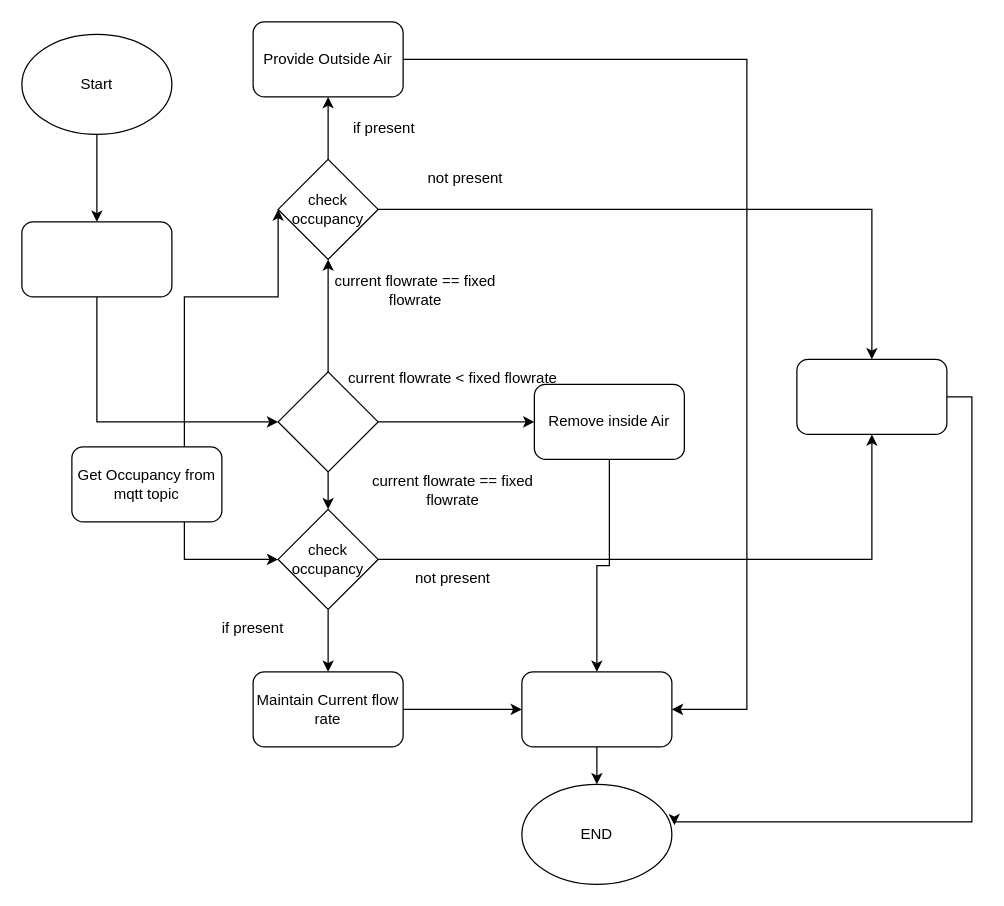
Some shapes in this 1004 by 906 pixel diagram are drawn without their labels. Here are the shapes that lost their labels. From the top down, the centre of each, then its label:
At pixel 96 259: "Get data from Differential ressure Sensors mqtt topic".
At pixel 871 396: "AHU IDLE signal".
At pixel 327 421: "Check air flowrate".
At pixel 596 709: "Send Control Signal to controller".
